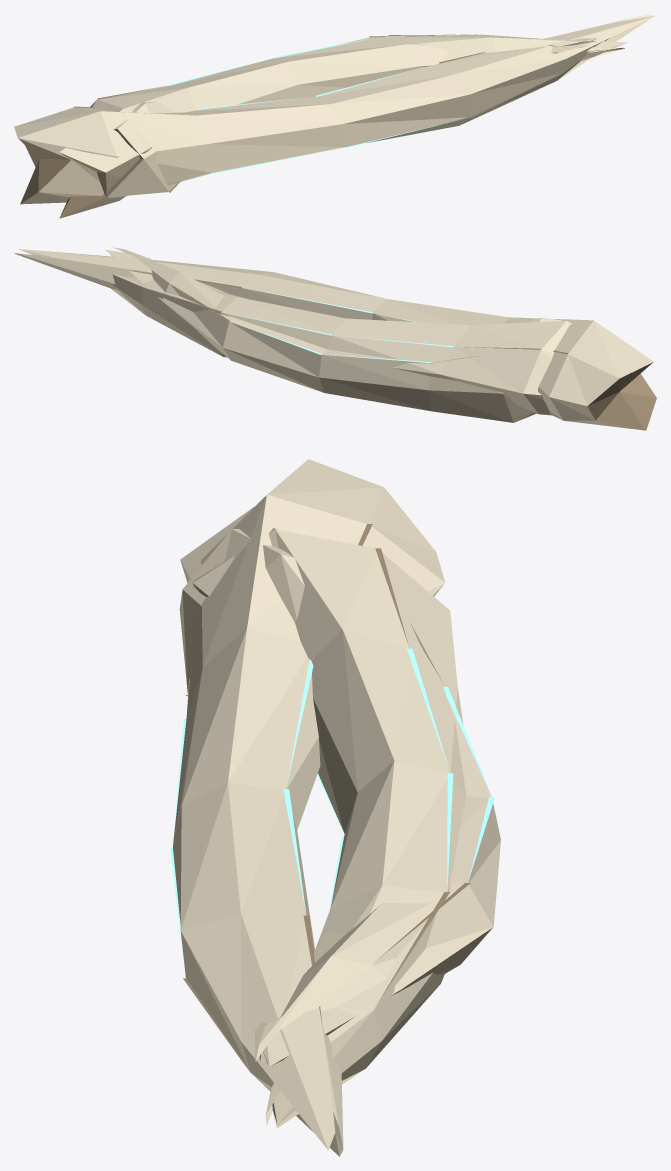
3 renders of one model, top to bottom at view 1: azimuth 30°, elevation 25°; view 2: azimuth 150°, elevation 25°; view 3: azimuth 270°, elevation 25°, orthographic. The views are drawn at different scales.
Parts seen in each view (by area): view 1: MOB_SKELETON_Q_SHARD_01, MOB_SKELETON_Q_SHARD_00, MOB_SKELETON_Q_SHARD_02; view 2: MOB_SKELETON_Q_SHARD_01, MOB_SKELETON_Q_SHARD_00, MOB_SKELETON_Q_SHARD_02; view 3: MOB_SKELETON_Q_SHARD_01, MOB_SKELETON_Q_SHARD_00, MOB_SKELETON_Q_SHARD_02.
Part boxes in pixels (bbox=[...]): MOB_SKELETON_Q_SHARD_01: bbox=[14, 14, 656, 204]; MOB_SKELETON_Q_SHARD_00: bbox=[59, 35, 627, 218]; MOB_SKELETON_Q_SHARD_02: bbox=[107, 34, 596, 197]; MOB_SKELETON_Q_SHARD_01: bbox=[14, 249, 656, 430]; MOB_SKELETON_Q_SHARD_00: bbox=[111, 274, 571, 415]; MOB_SKELETON_Q_SHARD_02: bbox=[105, 247, 561, 422]; MOB_SKELETON_Q_SHARD_01: bbox=[170, 459, 445, 1156]; MOB_SKELETON_Q_SHARD_00: bbox=[180, 507, 466, 1128]; MOB_SKELETON_Q_SHARD_02: bbox=[179, 529, 500, 1066].
Bounding box in the file's own units: 39.68 × 5.88 × 9.
